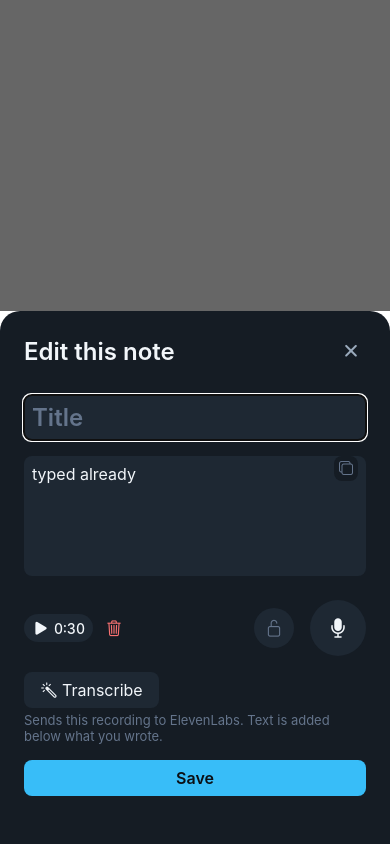
Test: transcribing the recording › says what went wrong rather than failing silently
Click the button with aria-label "Transcribe the recording" at (91, 690), box [24,672,159,708]
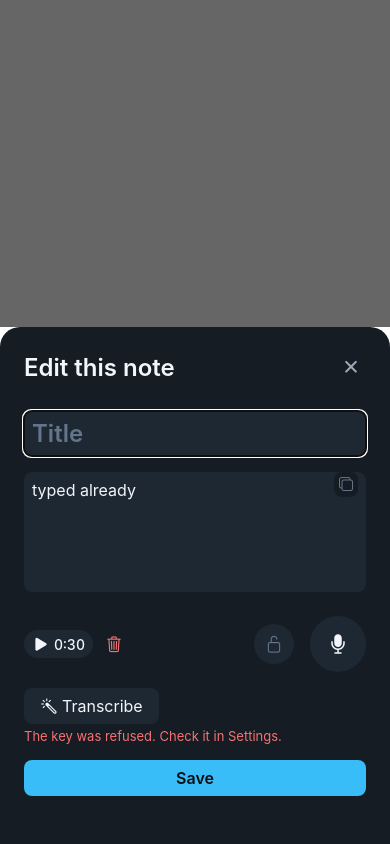
Check: the text "The key was refused. Check it in Settings." is shown, box [24,728,282,744]
